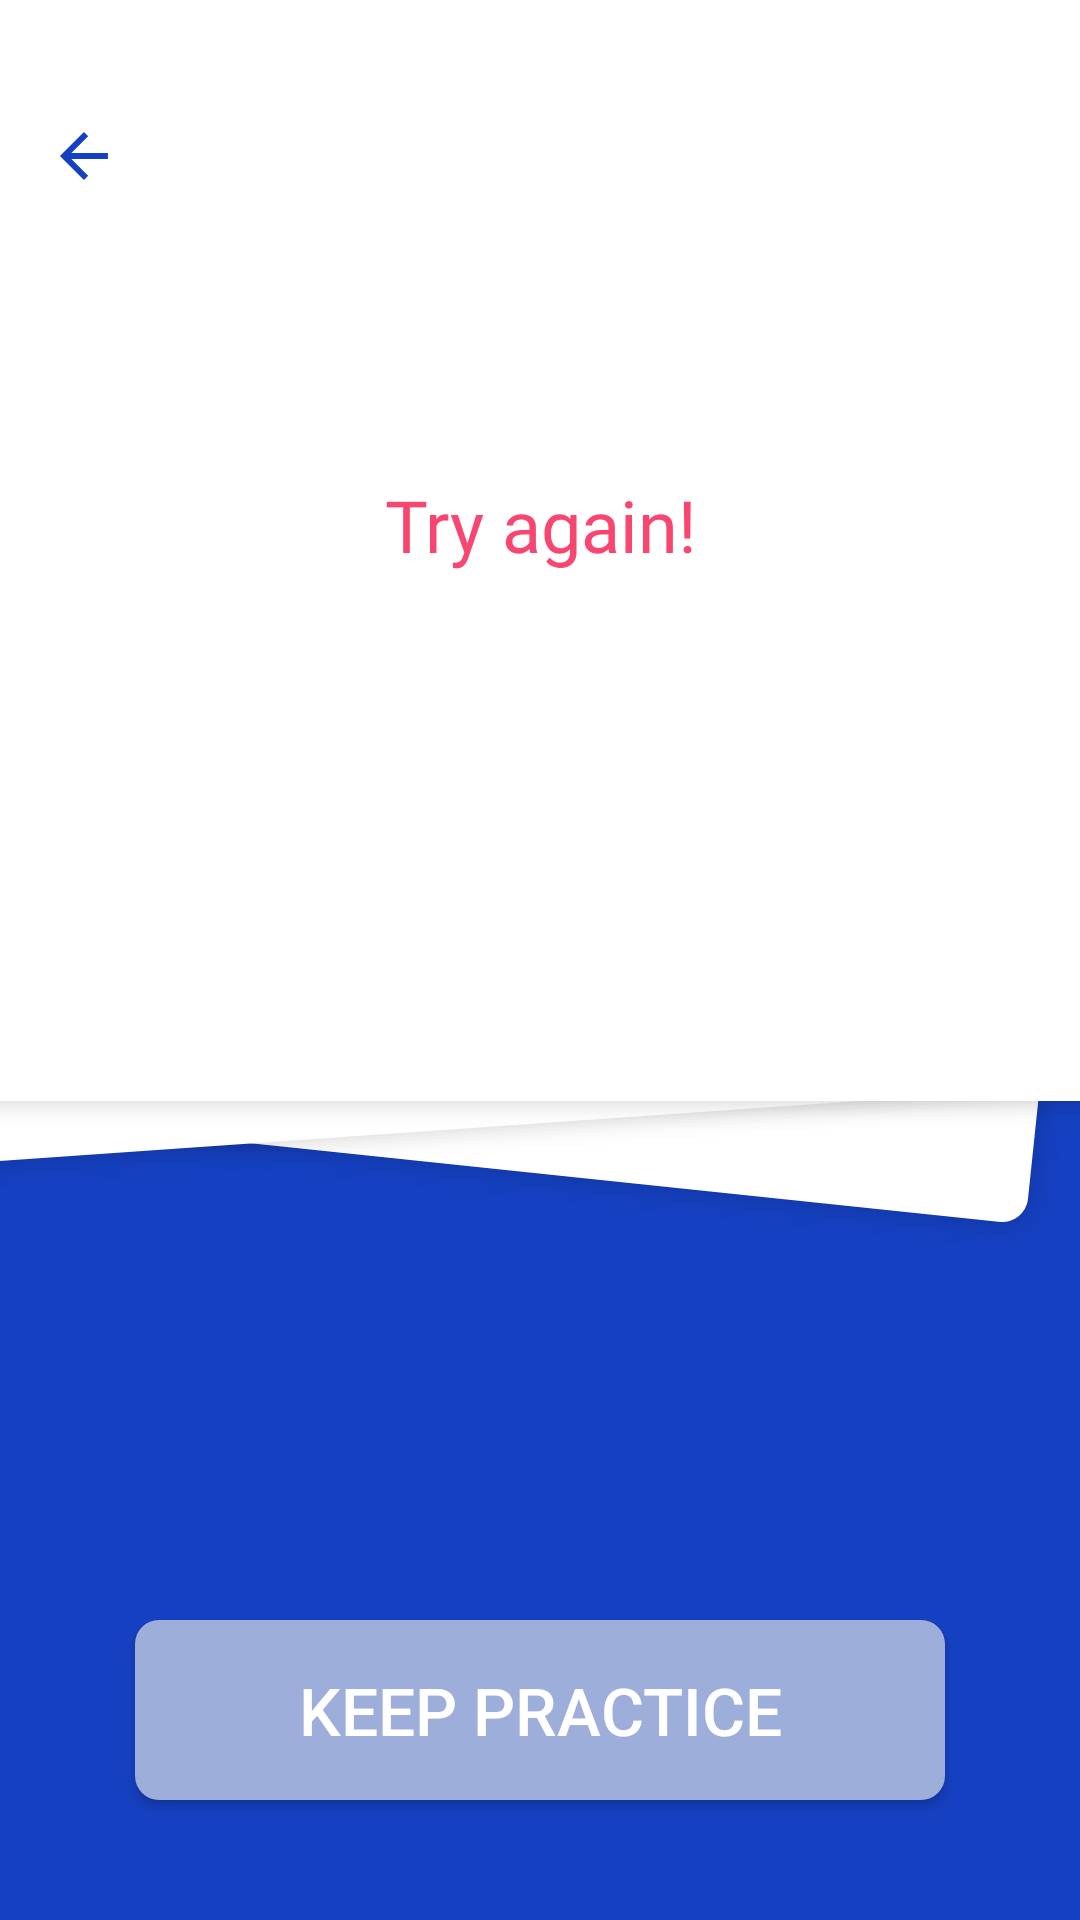

Locate icon controls on the screen. Image size 1080×1920, boxes as bbox=(x1, y1, x2, y2).
back: bbox=(60, 132, 108, 180)
